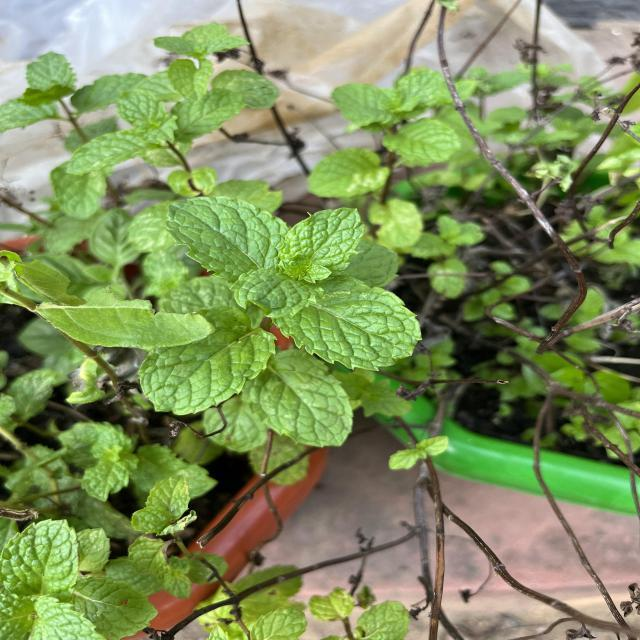Mentha spicata: (137, 304, 279, 418), (269, 274, 426, 374), (240, 348, 356, 448), (163, 194, 290, 282), (275, 207, 367, 286)
